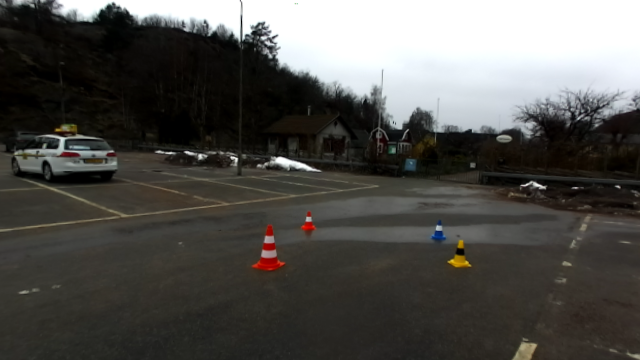blue: (429, 217, 447, 241)
orange: (299, 209, 316, 231)
orange2: (253, 223, 286, 272)
yellow: (447, 238, 472, 270)
